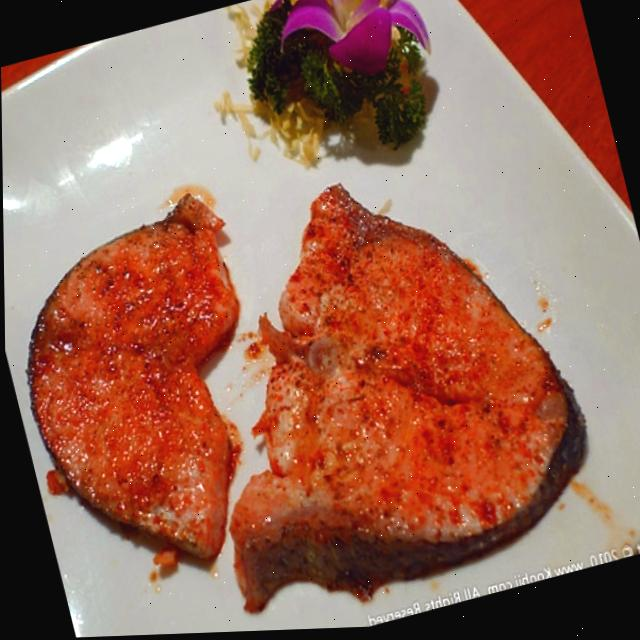熟制海鲜: (1, 77, 621, 640)
